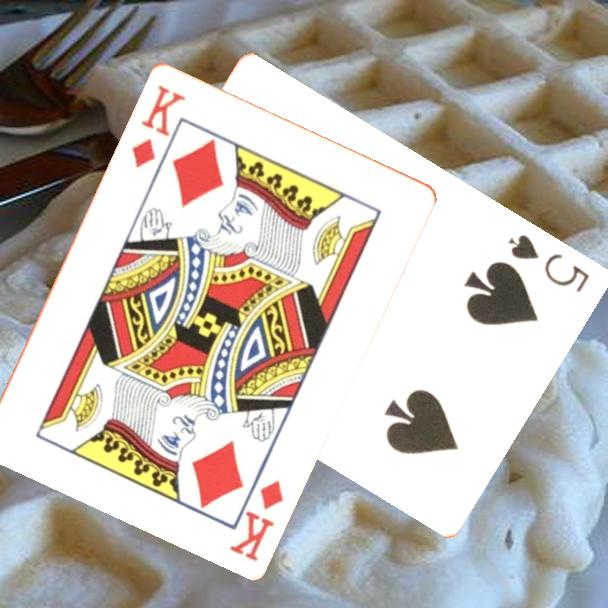d13: (128, 81, 189, 170), (226, 475, 286, 564)
s05: (505, 230, 593, 296)
